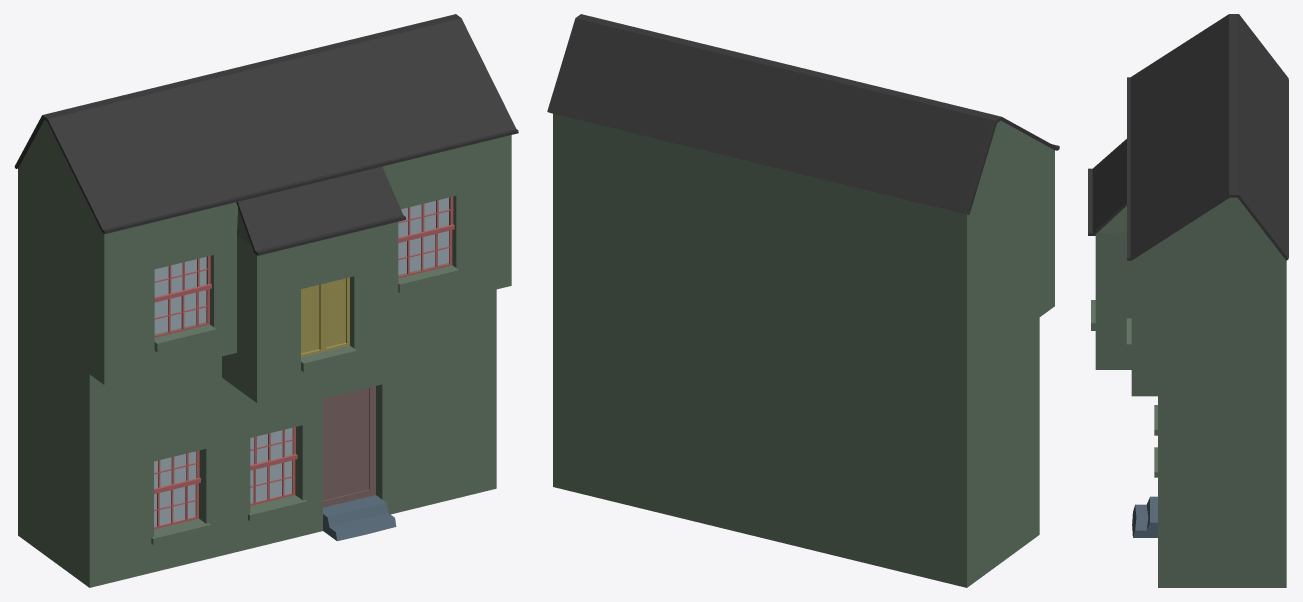
Rendered from Building_03.fbx.
3 views of the same model, side by side, from view 1: azimuth 30°, elevation 25°; view 2: azimuth 150°, elevation 25°; view 3: azimuth 270°, elevation 25° (orthographic). The views are drawn at different scales.
Visible parts, largest first — view 1: polySurface83, Roof, Small_Roof, Door, Glazing (×2), polySurface69, polySurface71, Door_Steps, Solid_Shutter_R7, polySurface74 (×2), Solid_Shutter_L7, polySurface75 (×2) (+3 smaller); view 2: polySurface83, Roof; view 3: polySurface83, Roof, Small_Roof, Door_Steps.
Boxes of the visible parts, left/top/right/bottom form: polySurface83: left=18, top=120, right=511, bottom=587; Roof: left=14, top=14, right=518, bottom=233; Small_Roof: left=236, top=166, right=405, bottom=255; Door: left=323, top=386, right=375, bottom=507; Glazing (×2): left=154, top=427, right=292, bottom=526; polySurface69: left=154, top=257, right=206, bottom=334; polySurface71: left=398, top=197, right=448, bottom=274; Door_Steps: left=323, top=495, right=396, bottom=541; Solid_Shutter_R7: left=323, top=277, right=349, bottom=351; polySurface74 (×2): left=154, top=196, right=454, bottom=302; Solid_Shutter_L7: left=301, top=284, right=323, bottom=357; polySurface75 (×2): left=154, top=230, right=452, bottom=337; polySurface83: left=553, top=113, right=1054, bottom=587; Roof: left=547, top=14, right=1059, bottom=214; polySurface83: left=1091, top=197, right=1286, bottom=587; Roof: left=1127, top=14, right=1288, bottom=260; Small_Roof: left=1088, top=139, right=1126, bottom=235; Door_Steps: left=1132, top=496, right=1157, bottom=537.
Size of the model in its own units: 7.59 by 7.72 by 3.56.
